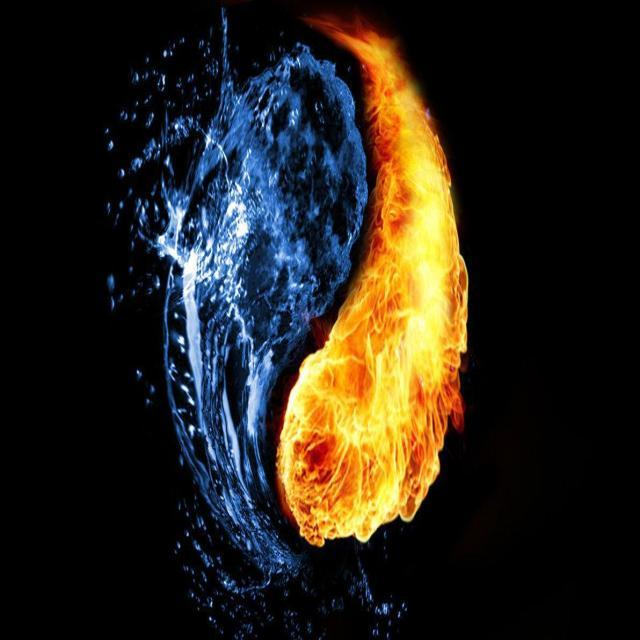Fire: (274, 14, 475, 559)
